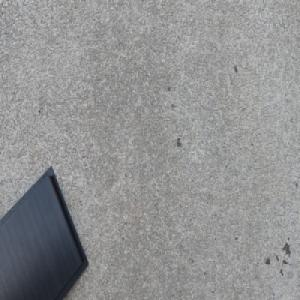PlasticPart: (0, 163, 89, 300)
